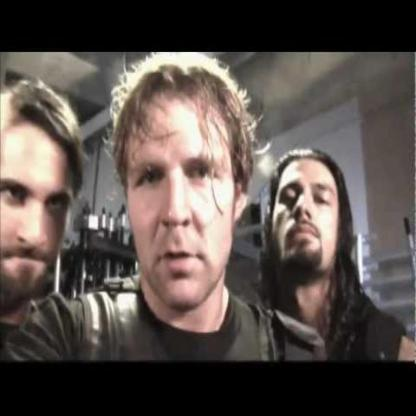face: (134, 94, 235, 304), (6, 134, 66, 293), (276, 163, 336, 276)
